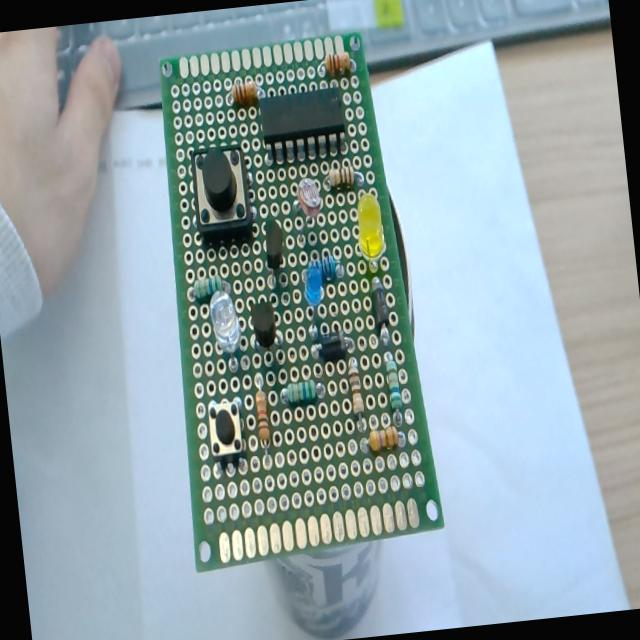IC: (257, 86, 347, 163)
cds: (286, 176, 326, 240)
diode: (309, 330, 350, 366), (368, 275, 391, 336)
led: (207, 287, 243, 355), (295, 265, 329, 332), (354, 191, 386, 259)
resistor: (252, 384, 274, 462), (346, 358, 364, 416), (307, 250, 339, 282), (383, 358, 402, 410), (192, 275, 226, 300), (230, 78, 258, 107), (368, 427, 400, 452), (285, 379, 316, 404), (324, 50, 350, 76), (326, 164, 354, 188)
switch: (189, 142, 253, 240), (206, 398, 246, 469)
transistor: (261, 218, 288, 286), (250, 298, 278, 348)
